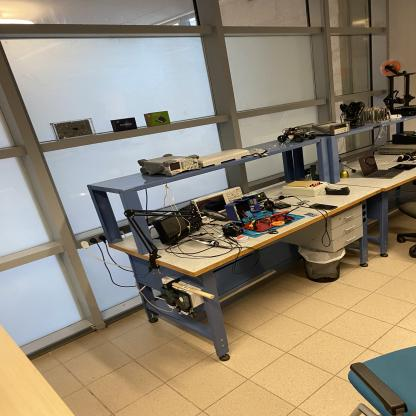Knife: (260, 210, 289, 219)
scissors: (164, 277, 216, 300), (250, 229, 278, 235), (257, 220, 285, 226), (270, 219, 292, 224)
